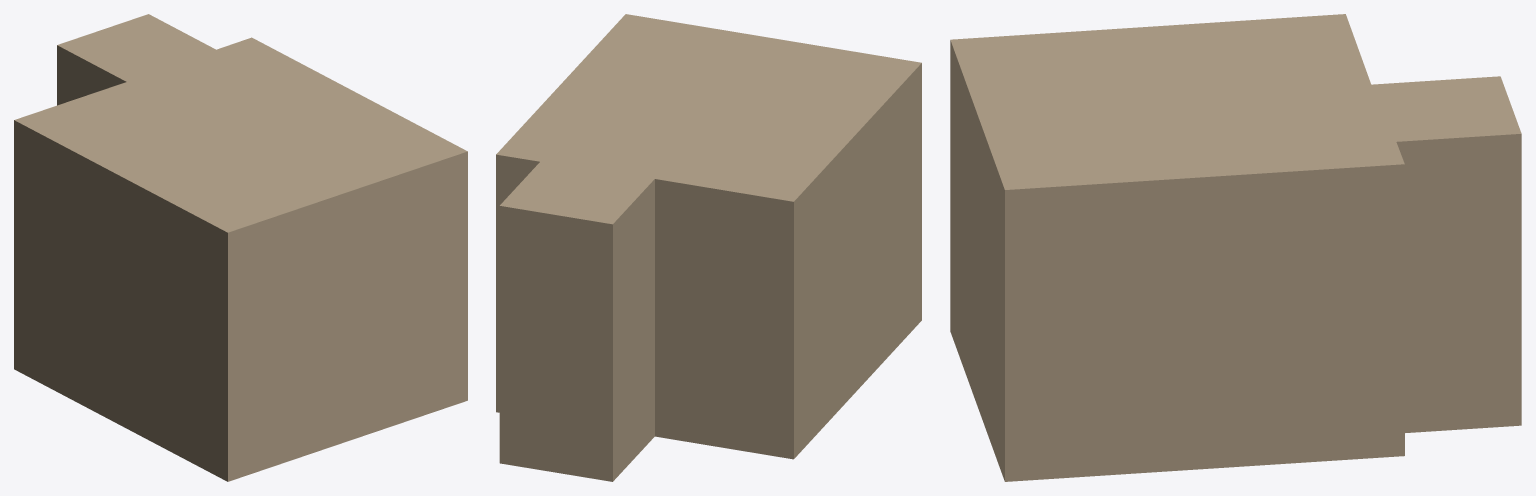
The model's file is bld_109034794.dae.
The picture shows the model from 3 angles, left to right: view 1: azimuth 30°, elevation 25°; view 2: azimuth 150°, elevation 25°; view 3: azimuth 270°, elevation 25°; orthographic projection. The views are drawn at different scales.
Parts seen in each view (by area): view 1: bld_109034794; view 2: bld_109034794; view 3: bld_109034794.
Boxes of the visible parts, box(x1,y1,x2,y2) form: bld_109034794: box(14, 14, 467, 481); bld_109034794: box(496, 14, 921, 481); bld_109034794: box(950, 14, 1521, 481).
Size of the model in its own units: 10.35 by 14.19 by 8.
